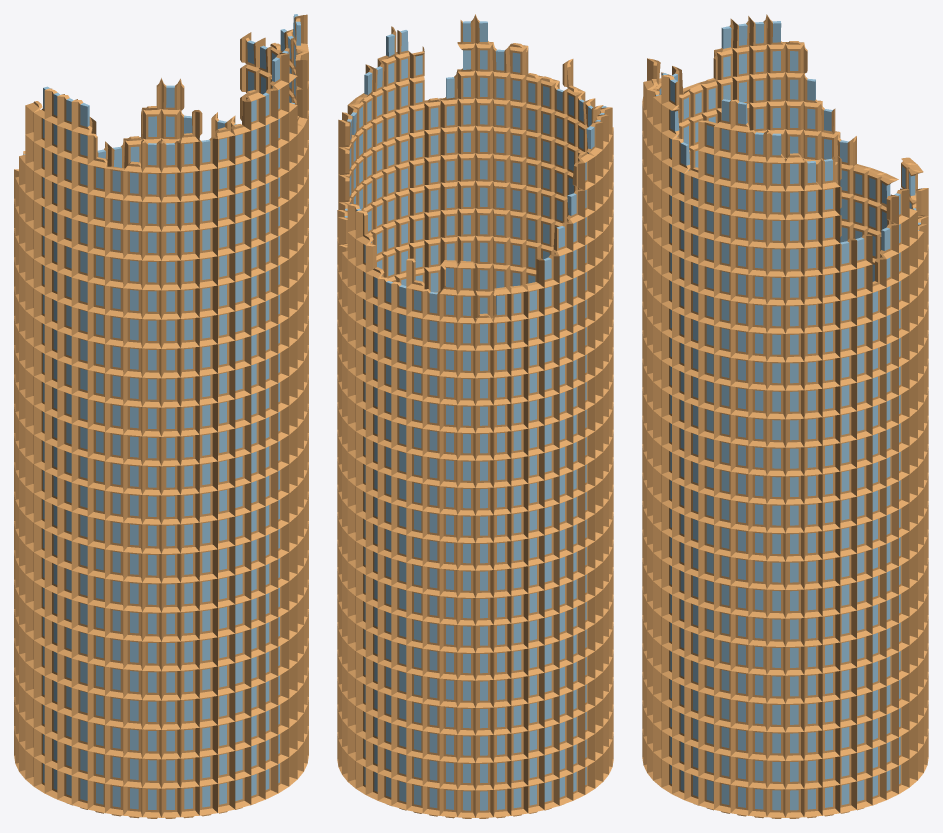
Rendered from Crayon.fbx.
The picture shows the model from 3 angles, left to right: view 1: azimuth 30°, elevation 25°; view 2: azimuth 150°, elevation 25°; view 3: azimuth 270°, elevation 25°; orthographic projection. The views are drawn at different scales.
Parts seen in each view (by area): view 1: Crayon; view 2: Crayon; view 3: Crayon.
Part boxes in pixels (<box>): Crayon: <box>14,14,308,818</box>; Crayon: <box>337,14,613,818</box>; Crayon: <box>642,14,928,818</box>.
Size of the model in its own units: 200 by 552 by 200.
